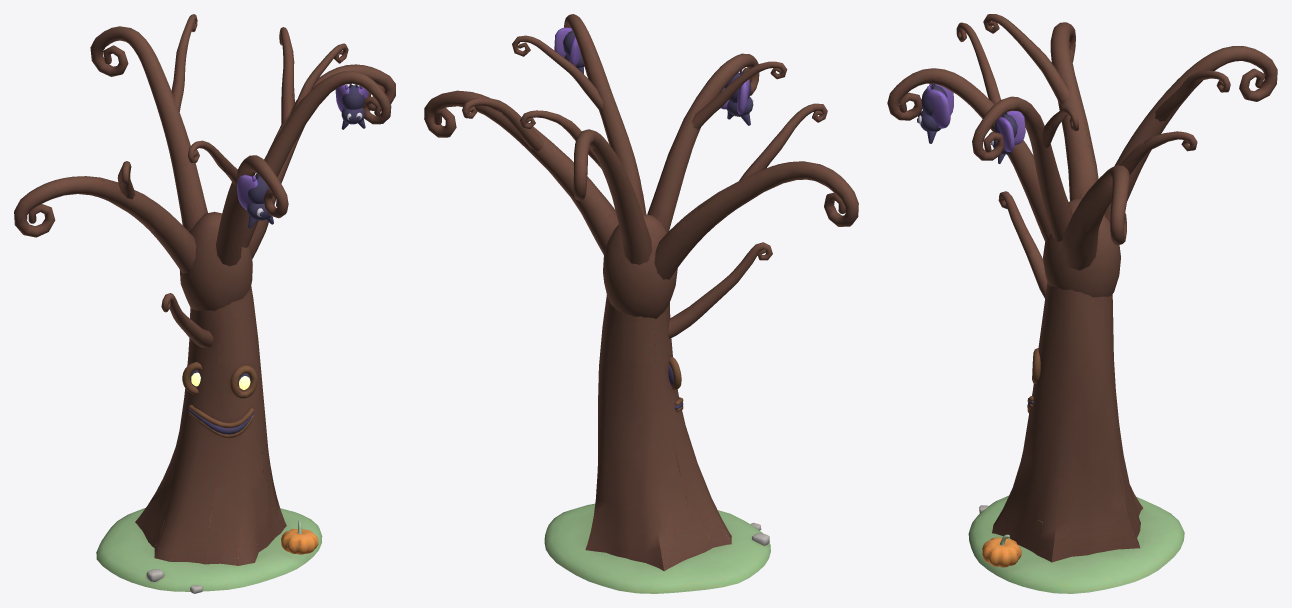
File: arbol_tenebroso.glb
The picture shows the model from 3 angles, left to right: view 1: azimuth 30°, elevation 25°; view 2: azimuth 150°, elevation 25°; view 3: azimuth 270°, elevation 25°; orthographic projection. The views are drawn at different scales.
Visible parts, largest first — view 1: spooky-tree_body; view 2: spooky-tree_body; view 3: spooky-tree_body.
Boxes of the visible parts, x1,y1,x2,y2 form: spooky-tree_body: (14, 14, 395, 593); spooky-tree_body: (424, 14, 858, 593); spooky-tree_body: (887, 14, 1277, 593).
Size of the model in its own units: 2.92 by 3.26 by 2.31.
2 materials, 1 textured.
